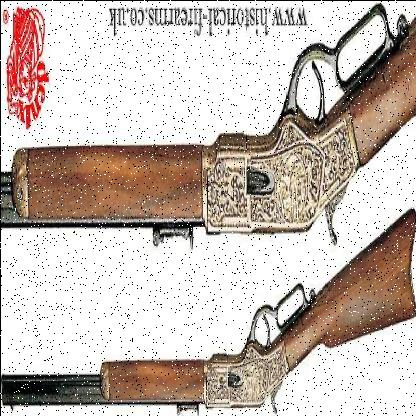rifle: (1, 4, 416, 254), (1, 207, 416, 414)
